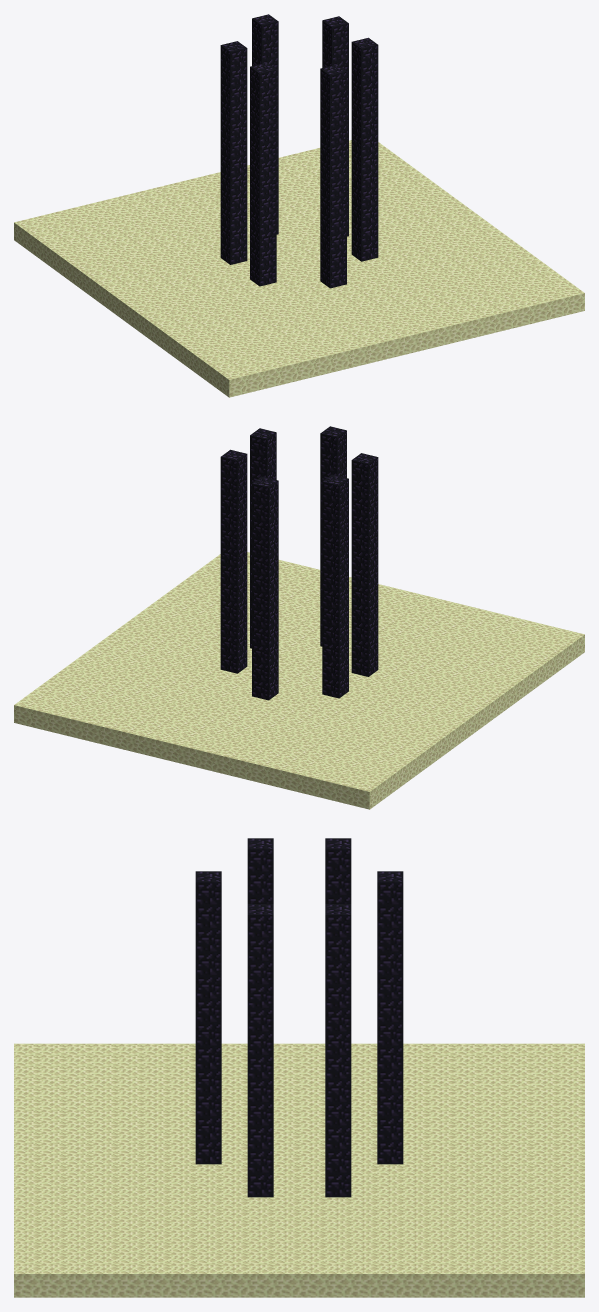
The model's file is level1-4.obj.
3 renders of one model, top to bottom at view 1: azimuth 30°, elevation 25°; view 2: azimuth 150°, elevation 25°; view 3: azimuth 270°, elevation 25°, orthographic. The views are drawn at different scales.
Visible parts, largest first — view 1: End_Stone, Obsidian; view 2: End_Stone, Obsidian; view 3: End_Stone, Obsidian.
Boxes of the visible parts, <box> form: End_Stone: <box>14,140,584,397</box>; Obsidian: <box>220,14,378,288</box>; End_Stone: <box>14,552,584,809</box>; Obsidian: <box>220,426,378,700</box>; End_Stone: <box>14,1043,584,1297</box>; Obsidian: <box>195,838,403,1197</box>.
Size of the model in its own units: 21 by 13 by 22.
2 materials, 2 textured.
